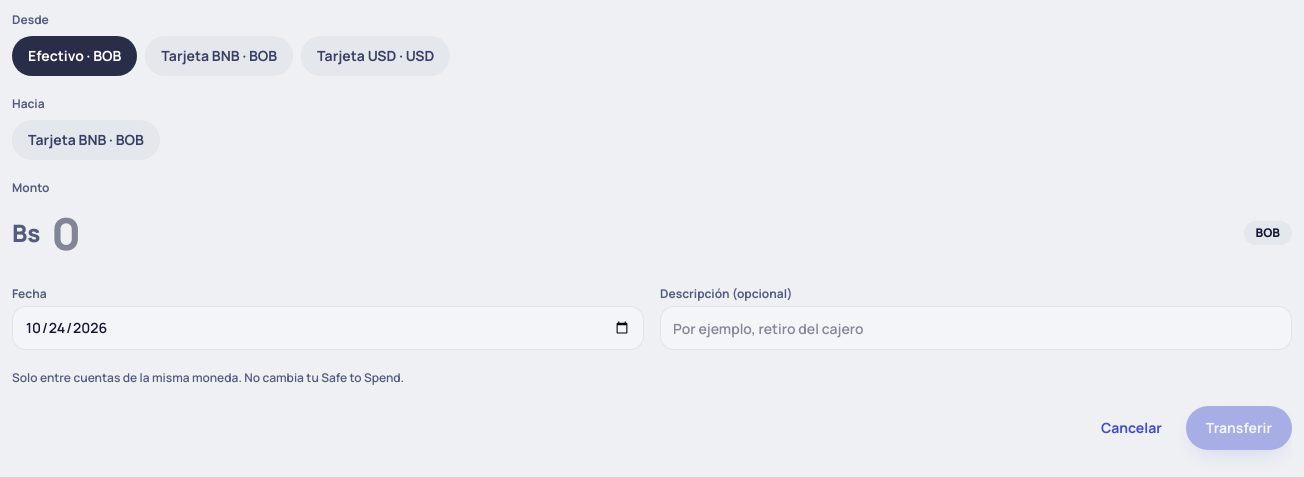
Test: TransferForm › RF-7 without another account in that currency it offers to create one
The width and height of the screenshot is (1304, 477).
Click the radio button labelled "Tarjeta USD · USD": x=376, y=56 [301,36,450,76]
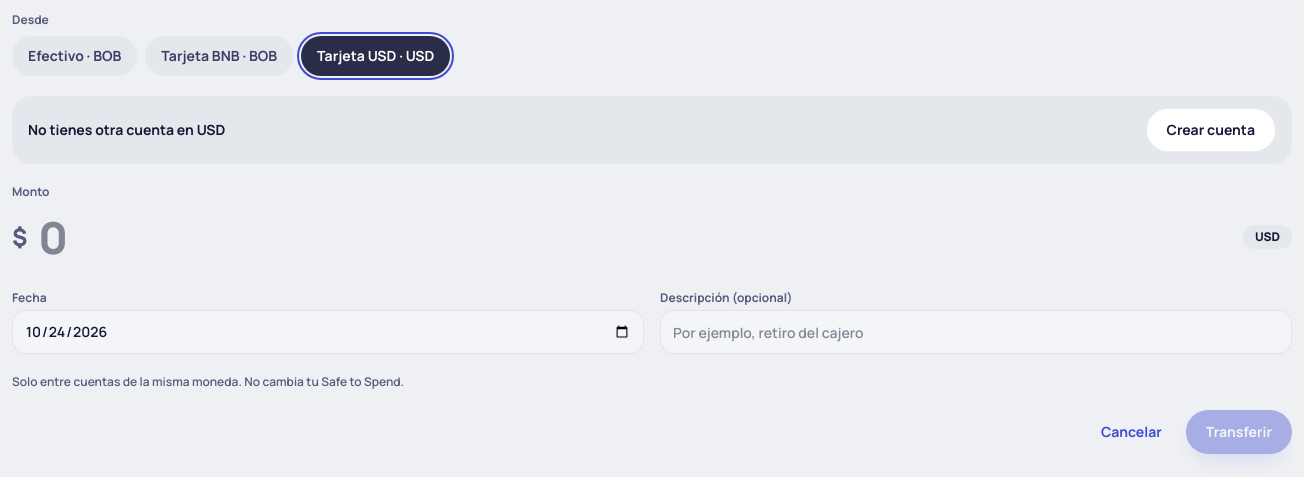
Check: the text "No tienes otra cuenta en USD" is shown, box [28,120,225,140]
Check: the text "USD" is shown, box [1243,225,1292,249]
